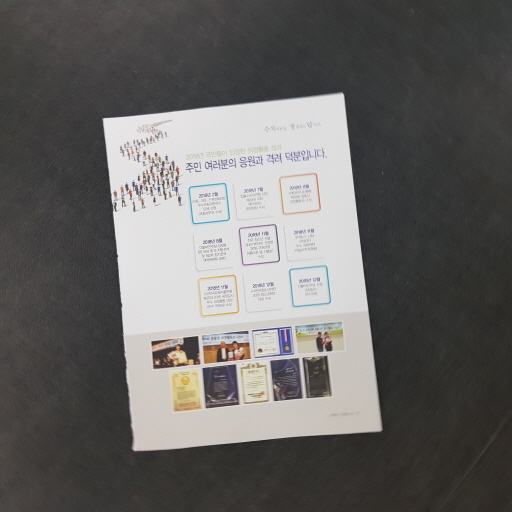Paper_2: (86, 89, 390, 456)
